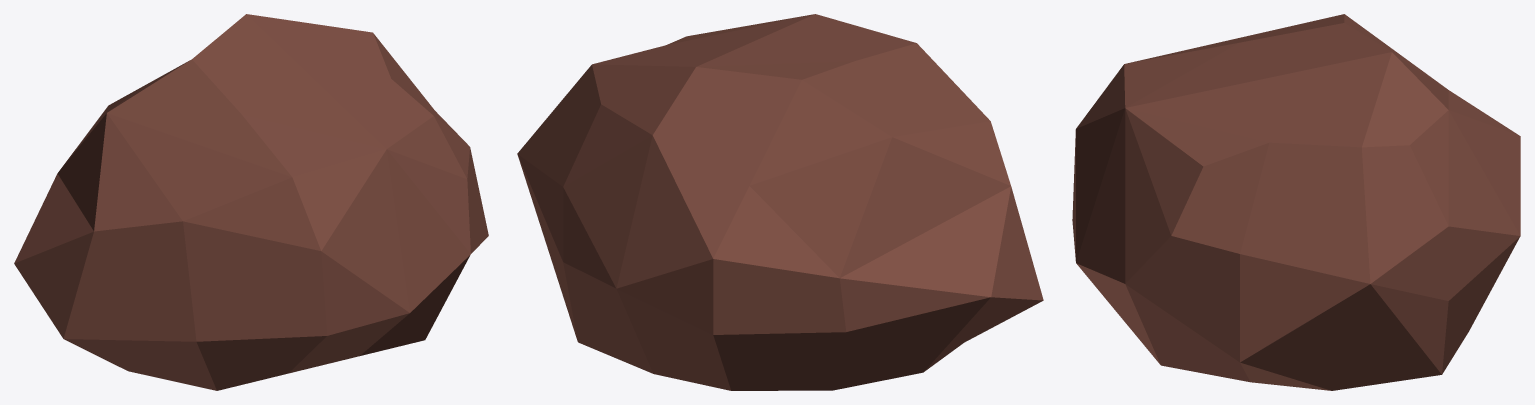
File: Boulder-A09.fbx
3 renders of one model, left to right at view 1: azimuth 30°, elevation 25°; view 2: azimuth 150°, elevation 25°; view 3: azimuth 270°, elevation 25°, orthographic. The views are drawn at different scales.
Visible parts, largest first — view 1: Boulder-A09; view 2: Boulder-A09; view 3: Boulder-A09.
Part boxes in pixels (x1,y1,x2,y2): Boulder-A09: (14,14,488,390); Boulder-A09: (517,14,1043,390); Boulder-A09: (1072,14,1520,390).
Bounding box in the file's own units: 145 × 84.16 × 123.
